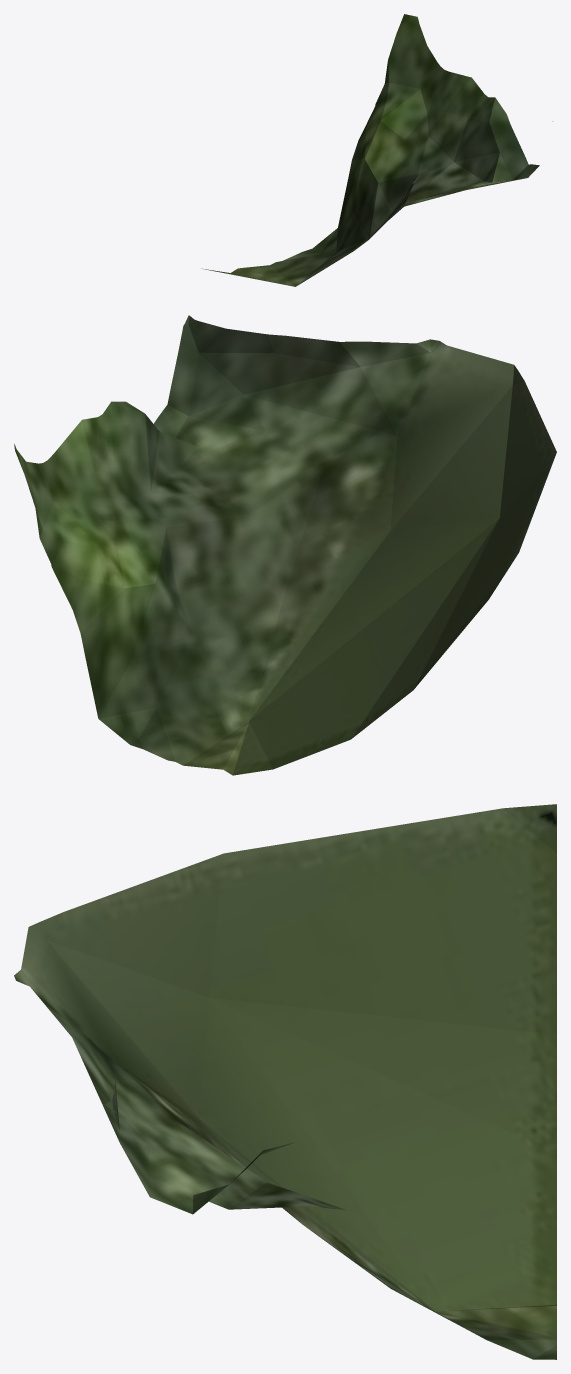
3 renders of one model, top to bottom at view 1: azimuth 30°, elevation 25°; view 2: azimuth 150°, elevation 25°; view 3: azimuth 270°, elevation 25°, orthographic. The views are drawn at different scales.
Bounding box in the file's own units: 2.96 × 1.55 × 2.25.
Materials: 1 (1 with a texture image).
